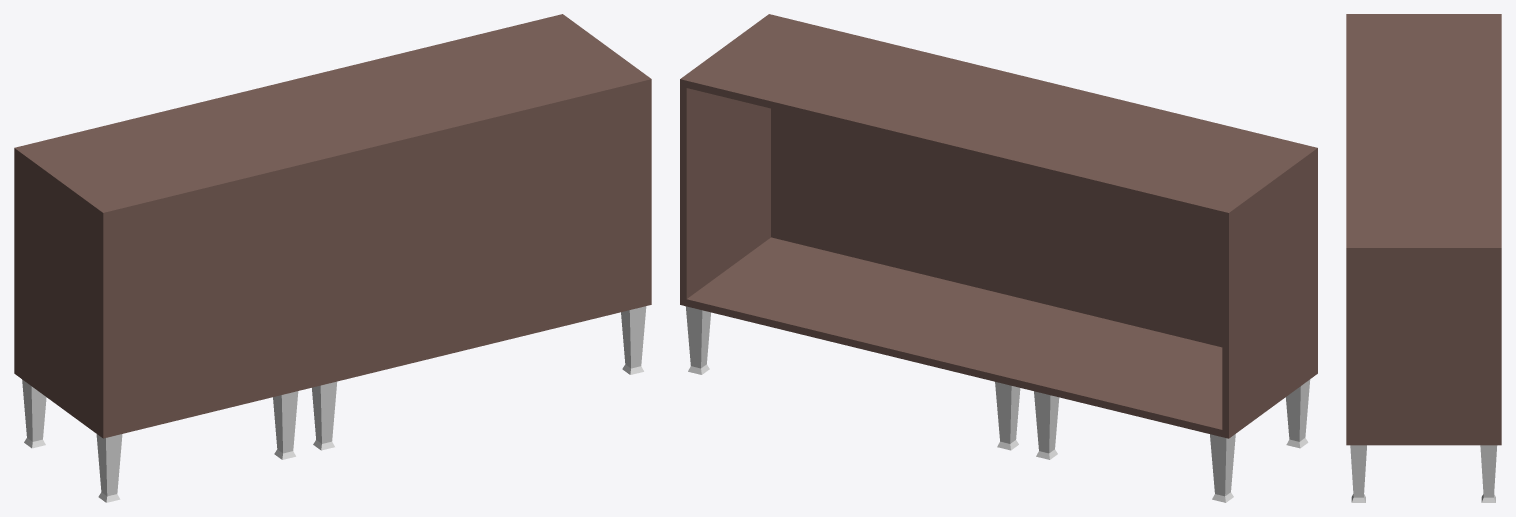
Rendered from cabinet_wood.glb.
The picture shows the model from 3 angles, left to right: view 1: azimuth 30°, elevation 25°; view 2: azimuth 150°, elevation 25°; view 3: azimuth 270°, elevation 25°; orthographic projection. The views are drawn at different scales.
Parts seen in each view (by area): view 1: ESTANTE, PÉS.001, PÉS; view 2: ESTANTE, PÉS, PÉS.001; view 3: ESTANTE, PÉS, PÉS.001.
Part boxes in pixels (bbox=[...]): ESTANTE: bbox=[14, 14, 651, 438]; PÉS.001: bbox=[96, 306, 646, 502]; PÉS: bbox=[22, 379, 46, 448]; ESTANTE: bbox=[680, 14, 1317, 438]; PÉS: bbox=[685, 306, 1235, 502]; PÉS.001: bbox=[1285, 379, 1310, 448]; ESTANTE: bbox=[1346, 14, 1501, 445]; PÉS: bbox=[1480, 445, 1497, 502]; PÉS.001: bbox=[1350, 445, 1366, 502].
Size of the model in its own units: 8.89 by 4.55 by 2.5.
